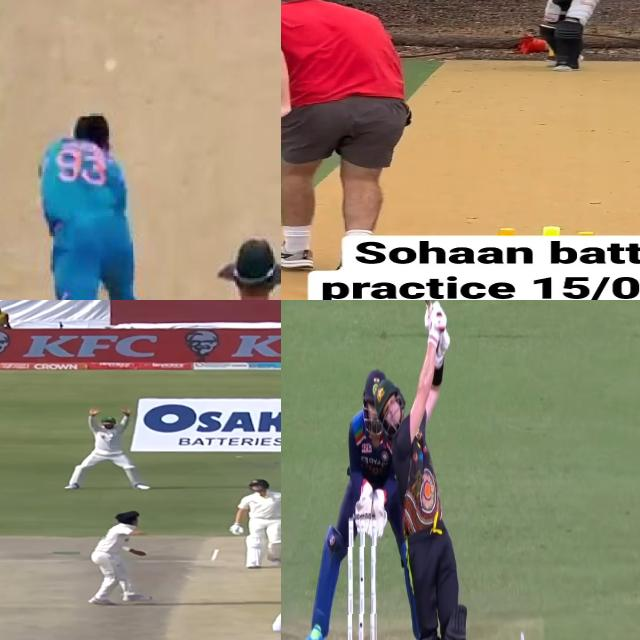Cricket ball: (103, 57, 120, 78)
Stumps: (347, 513, 378, 640)
